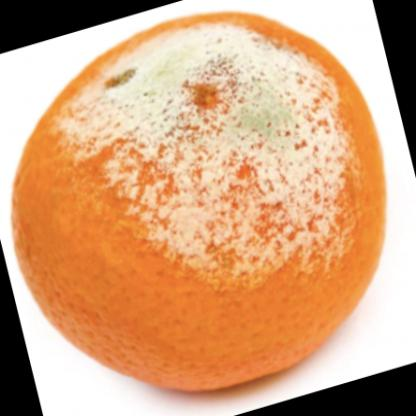rotten_orange: (13, 7, 394, 399)
